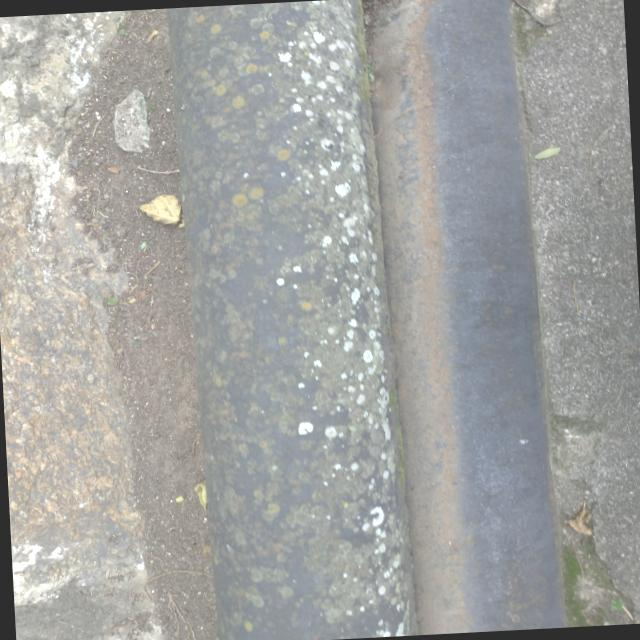gas: (172, 0, 417, 640), (375, 0, 572, 635)
